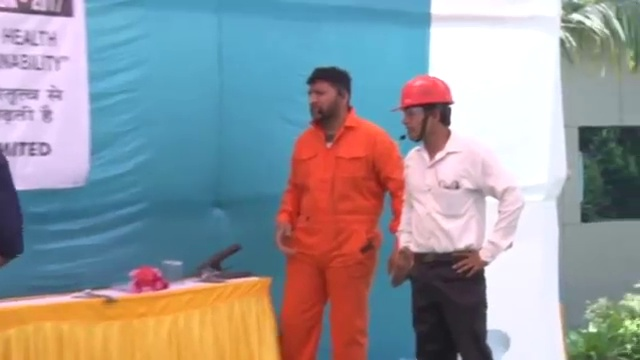helmet: (390, 74, 455, 111)
helmet_off: (307, 65, 353, 123)
helmet_on: (389, 73, 457, 152)
person: (388, 72, 527, 360), (273, 65, 408, 360)
